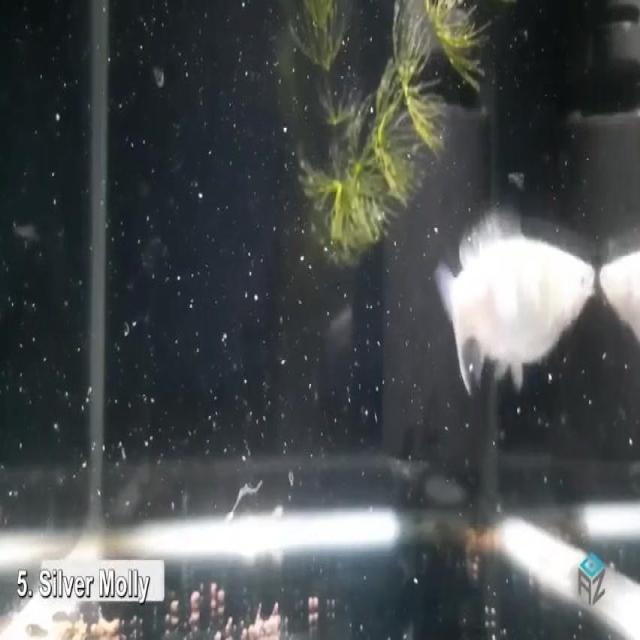PlatyFish: (427, 192, 605, 413)
